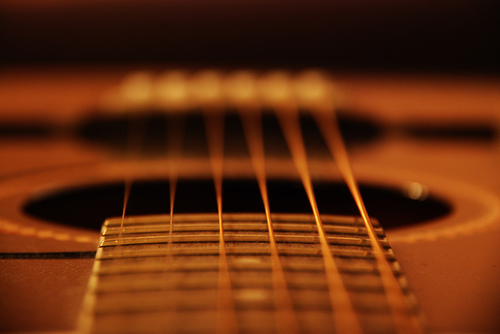guitar: (1, 56, 500, 334)
